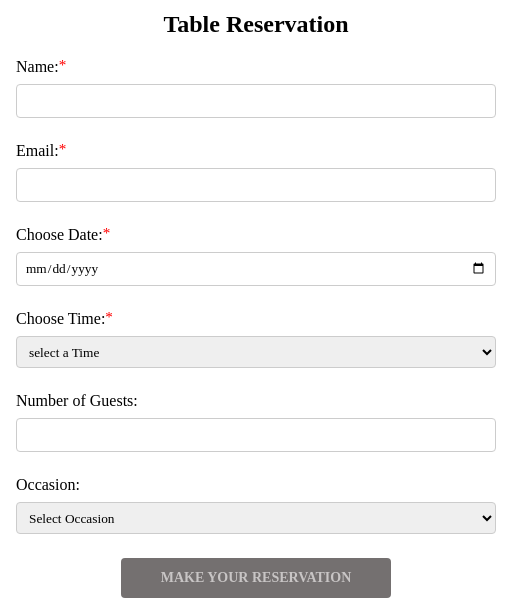
Test case: BookingForm Component › form becomes valid when all fields are filled
In the field labelled "Name:*": {"x": 256, "y": 101} [16,84,496,118], type "John Doe"
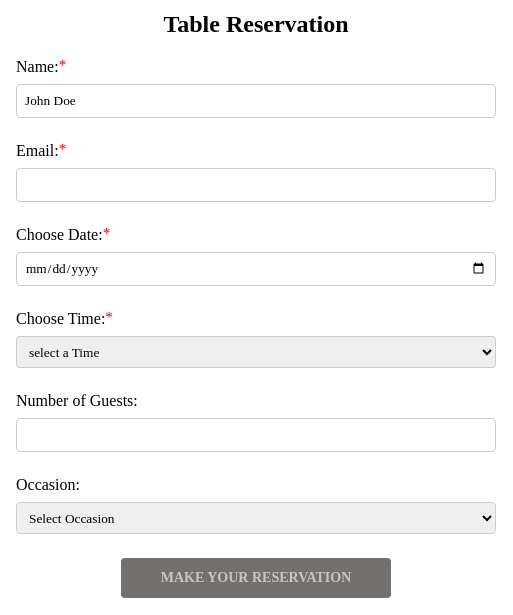
In the field labelled "Email:*": {"x": 256, "y": 185} [16,168,496,202], type "john@example.com"
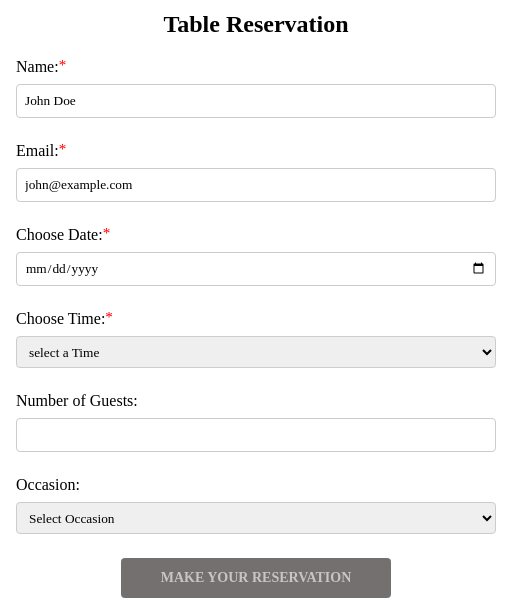
In the date field labelled "Choose Date:*": {"x": 256, "y": 269} [16,252,496,286], type "2025-12-10"
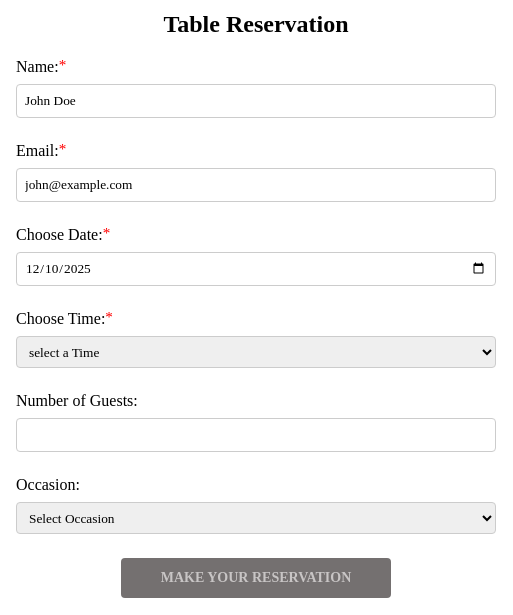
Select "18:00" in the dropdown labelled "Choose Time:*": {"x": 256, "y": 352} [16,336,496,368]
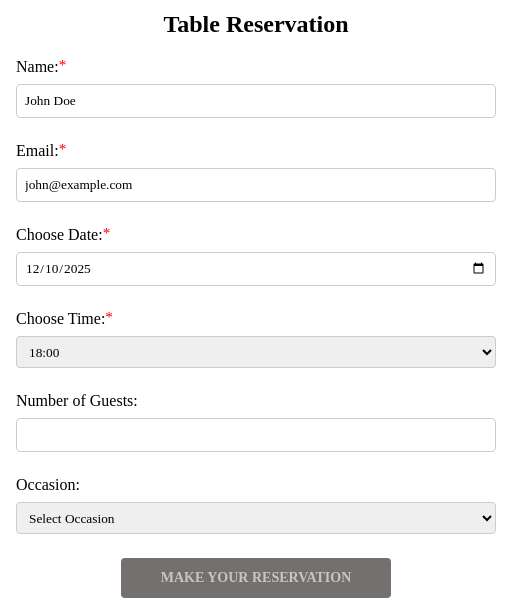
In the number field labelled "Number of Guests:": {"x": 256, "y": 435} [16,418,496,452], type "2"
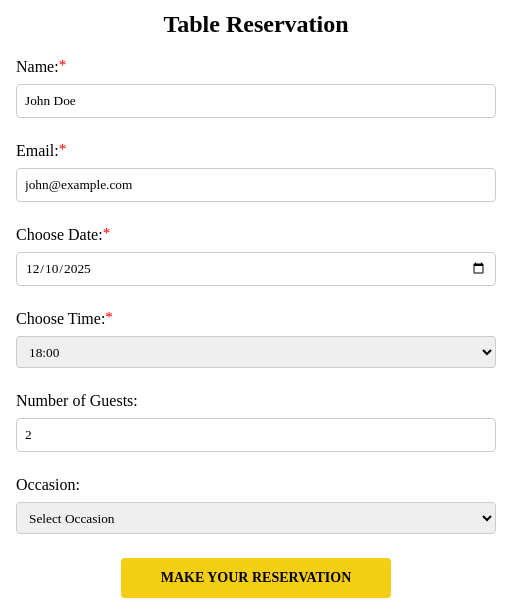
Check: the button "Make Your Reservation" is enabled, box [121,558,391,598]
